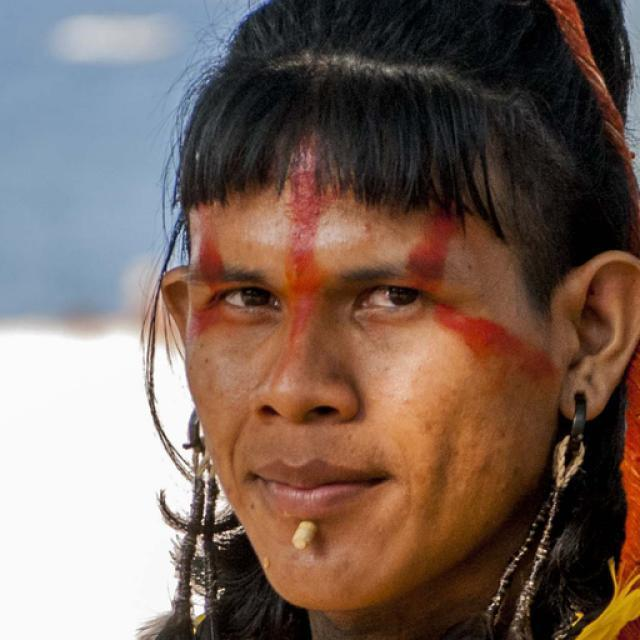0_rostro_limpio: (186, 67, 640, 612)
